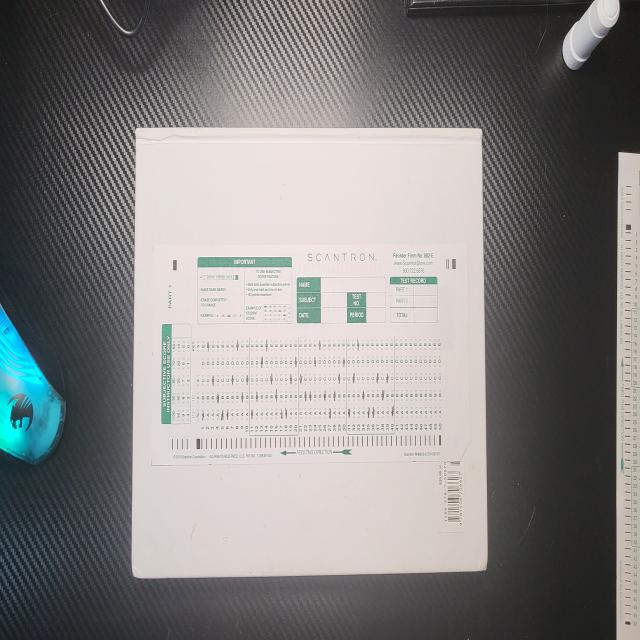scantron: (151, 243, 471, 465)
